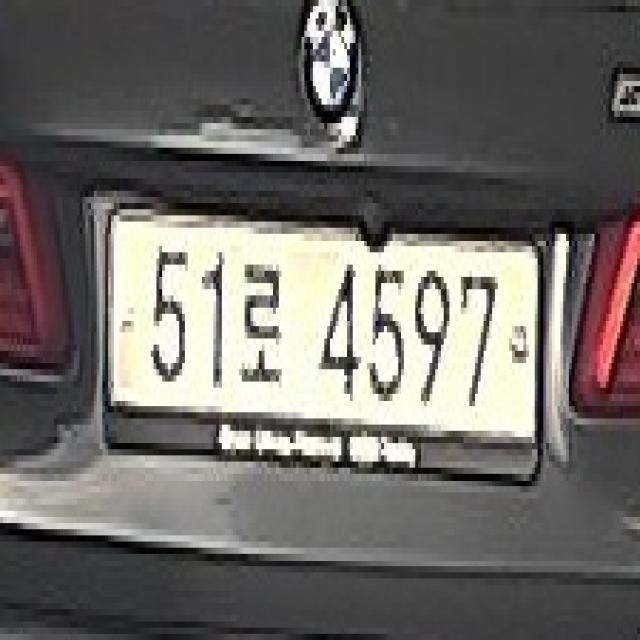1: (195, 253, 234, 403)
4: (314, 256, 362, 408)
5: (150, 236, 189, 389), (367, 253, 405, 409)
7: (456, 262, 498, 422)
9: (408, 258, 452, 410)
license_plate: (97, 177, 546, 524)
lo: (242, 252, 287, 399)
